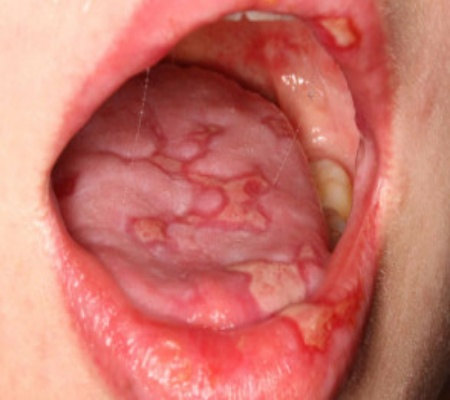SJS-TEN: (206, 200, 388, 371), (119, 98, 277, 257), (310, 0, 367, 56)
